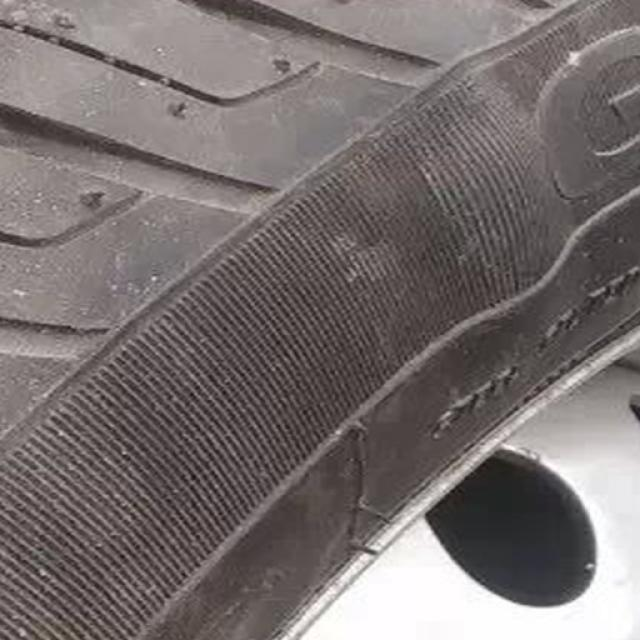Bulge: (405, 69, 567, 314)
